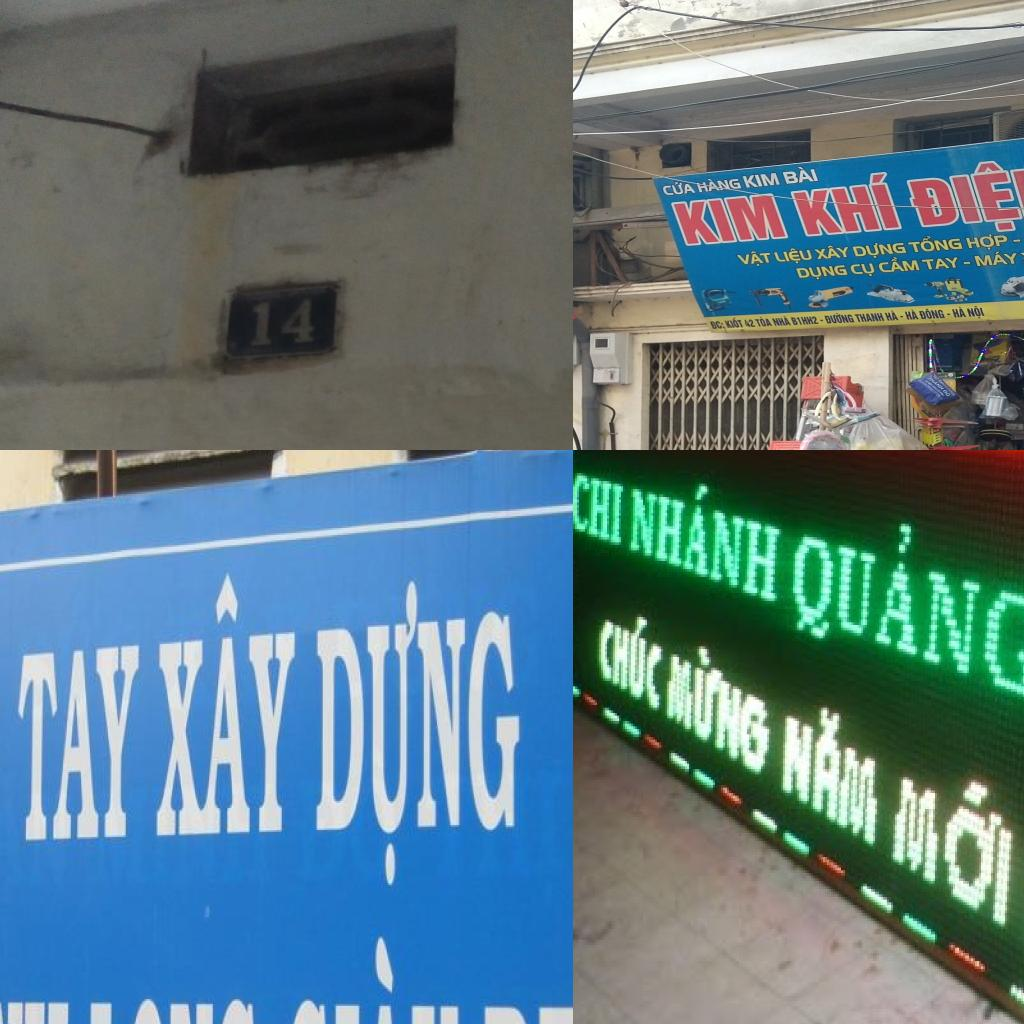text: (312, 574, 522, 888), (781, 507, 1024, 721), (154, 567, 301, 837), (881, 731, 1024, 939), (627, 465, 795, 620), (17, 644, 143, 844), (657, 628, 783, 788), (773, 684, 887, 857), (284, 939, 463, 1024), (898, 153, 1024, 237), (593, 593, 671, 716), (787, 170, 904, 238), (670, 193, 790, 247), (573, 464, 631, 558), (246, 297, 318, 348), (904, 233, 965, 254), (850, 240, 909, 261), (794, 264, 851, 282), (964, 232, 1012, 252), (876, 254, 922, 274), (772, 245, 815, 266), (971, 250, 1020, 268), (693, 177, 744, 194), (780, 164, 820, 185), (733, 249, 772, 269), (740, 172, 782, 190), (661, 179, 698, 197), (813, 244, 849, 262), (919, 256, 960, 271), (848, 262, 878, 278), (822, 312, 856, 324), (917, 307, 947, 320), (853, 312, 887, 323), (965, 304, 987, 320), (788, 316, 821, 326), (926, 376, 946, 391), (722, 316, 745, 329), (770, 315, 793, 327), (753, 316, 774, 328), (950, 306, 968, 318), (903, 308, 920, 320), (708, 320, 727, 330), (883, 310, 900, 321), (743, 318, 757, 329), (942, 388, 953, 398)
